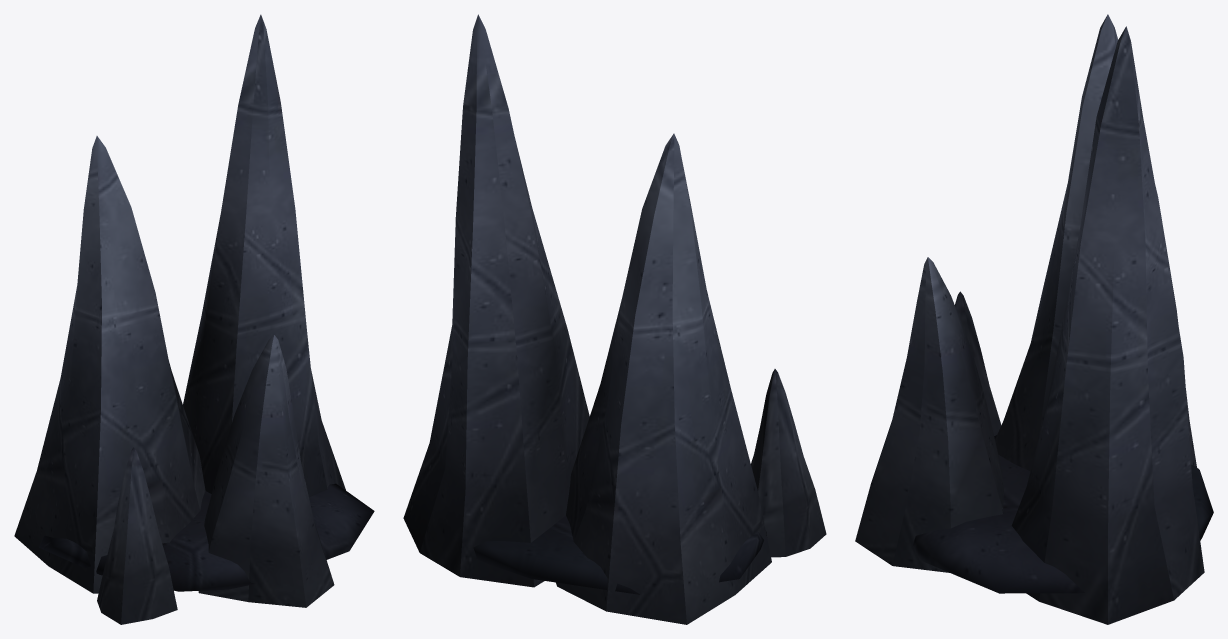
The model's file is cave_stalagmite_b.glb.
The picture shows the model from 3 angles, left to right: view 1: azimuth 30°, elevation 25°; view 2: azimuth 150°, elevation 25°; view 3: azimuth 270°, elevation 25°; orthographic projection. The views are drawn at different scales.
Parts seen in each view (by area): view 1: cave_stalagmite_b; view 2: cave_stalagmite_b; view 3: cave_stalagmite_b.
Part boxes in pixels (x1=…): cave_stalagmite_b: x1=14, y1=14, x2=374, y2=624; cave_stalagmite_b: x1=403, y1=14, x2=826, y2=624; cave_stalagmite_b: x1=855, y1=14, x2=1213, y2=624.
Size of the model in its own units: 0.8816 by 1.33 by 0.7773.
Materials: 1 (1 with a texture image).
